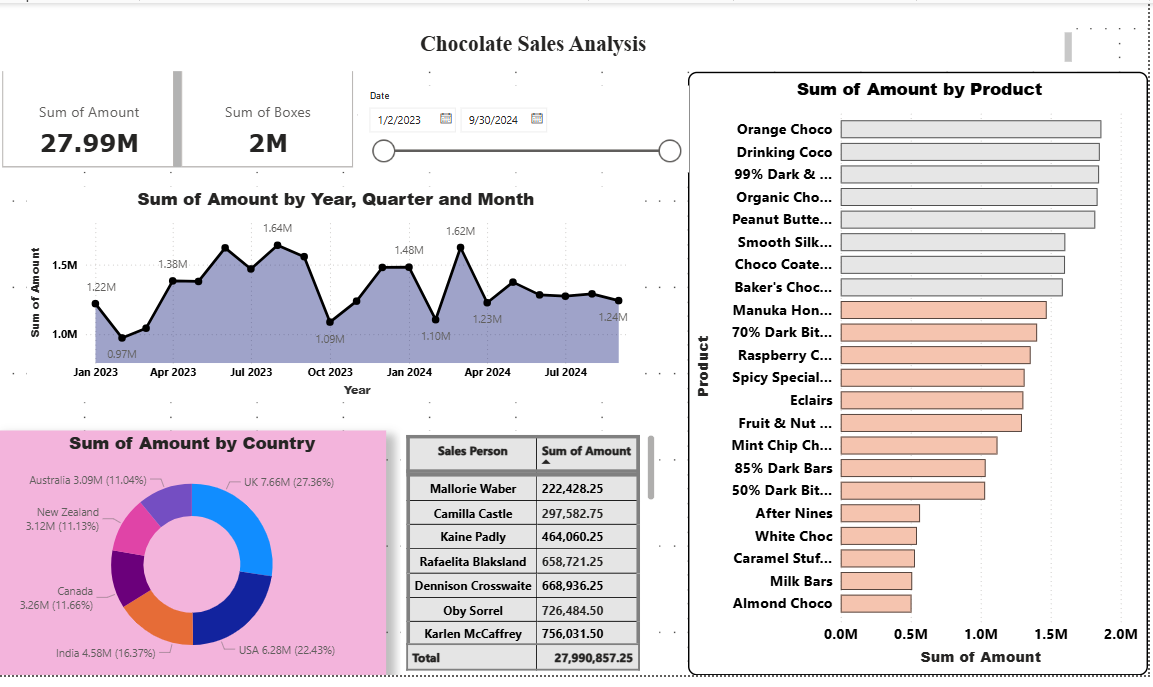

The dashboard page shown, as its layout file describes it:
{"tool":"powerbi","page":{"name":"Page 1","canvas":[1280,720],"ordinal":0},"visuals":[{"type":"lineChart","fields":{"Category":["data.Date.Variation.Date Hierarchy.Year","data.Date.Variation.Date Hierarchy.Quarter","data.Date.Variation.Date Hierarchy.Month","data.Date.Variation.Date Hierarchy.Day"],"Y":["data.Amount"]},"box":[32,176,688,240],"z":0},{"type":"donutChart","fields":{"Category":["data.Country"],"Y":["data.Amount"]},"box":[0,448,432,272],"z":1000},{"type":"tableEx","fields":{"Values":["data.Sales Person","data.Amount"]},"box":[448,448,288,272],"z":2000},{"type":"clusteredBarChart","fields":{"Category":["data.Product"],"Y":["data.Amount"]},"box":[768,48,512,672],"z":3000},{"type":"cardVisual","fields":{"Data":["data.Amount","data.Boxes"]},"box":[0,32,400,128],"z":4000},{"type":"slicer","fields":{"Values":["data.Date"]},"box":[400,64,368,96],"z":5000},{"type":"textbox","box":[0,0,1200,48],"z":6000}]}

Visuals, with their boxes on the page's 1280x720 design canvas (x1, y1, x2, y2). These are canvas units, not pixel positions in the 1153x687 screenshot, which may show the page scaled, cropped or inside an application window:
lineChart - data.Date.Variation.Date Hierarchy.Year x data.Date.Variation.Date Hierarchy.Quarter: [32,176,720,416]
donutChart - data.Country x data.Amount: [0,448,432,720]
tableEx - data.Sales Person x data.Amount: [448,448,736,720]
clusteredBarChart - data.Product x data.Amount: [768,48,1280,720]
cardVisual - data.Amount x data.Boxes: [0,32,400,160]
slicer - data.Date: [400,64,768,160]
textbox: [0,0,1200,48]
